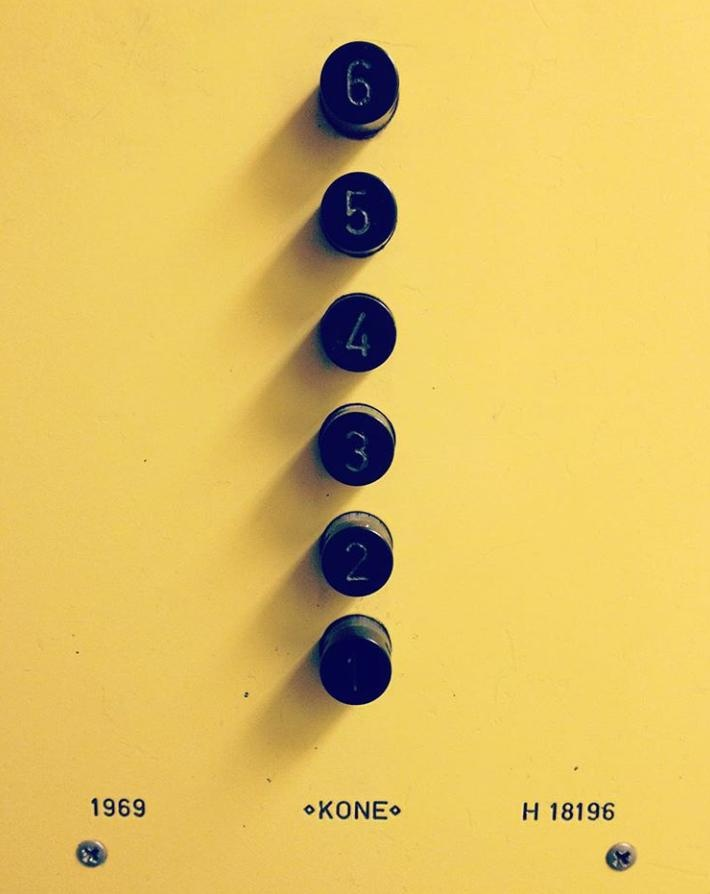2: (316, 509, 396, 598)
3: (316, 403, 399, 488)
4: (316, 292, 397, 373)
5: (318, 170, 397, 263)
6: (316, 40, 401, 144)
blur: (315, 613, 392, 709)
